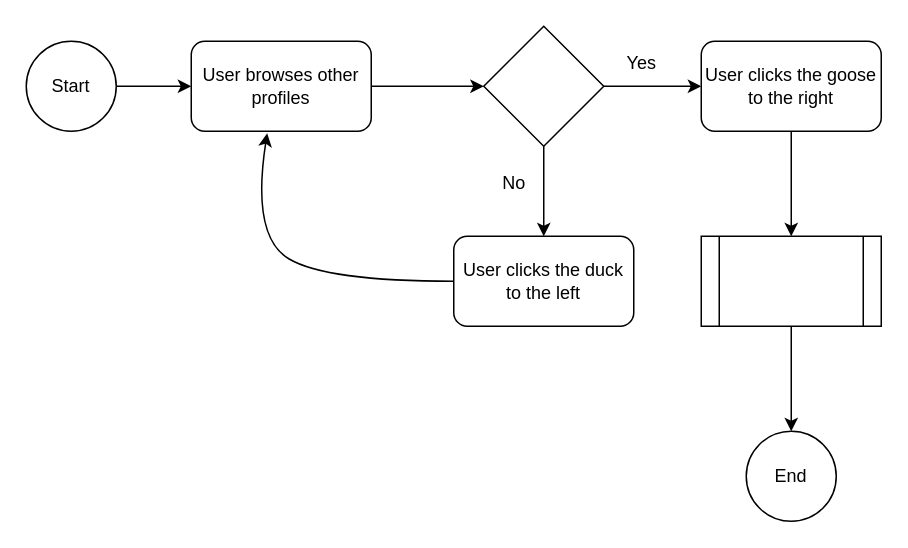
This 908x548 diagram has some shape labels left out. Each missing label, with the centre of its shape:
"Do they want to match?" goes at point 543,85.
"Message process" goes at point 790,280.
